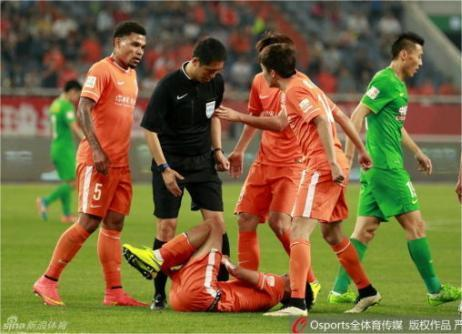down: (121, 214, 317, 315)
up: (330, 32, 462, 307), (258, 43, 380, 317), (34, 20, 147, 308), (145, 31, 230, 293), (230, 33, 311, 272), (35, 75, 82, 227)
